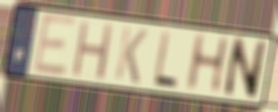E: (31, 10, 79, 78)
H: (182, 31, 232, 95), (70, 18, 116, 83)
K: (112, 24, 150, 87)
L: (150, 29, 181, 91)
N: (221, 35, 269, 102)
